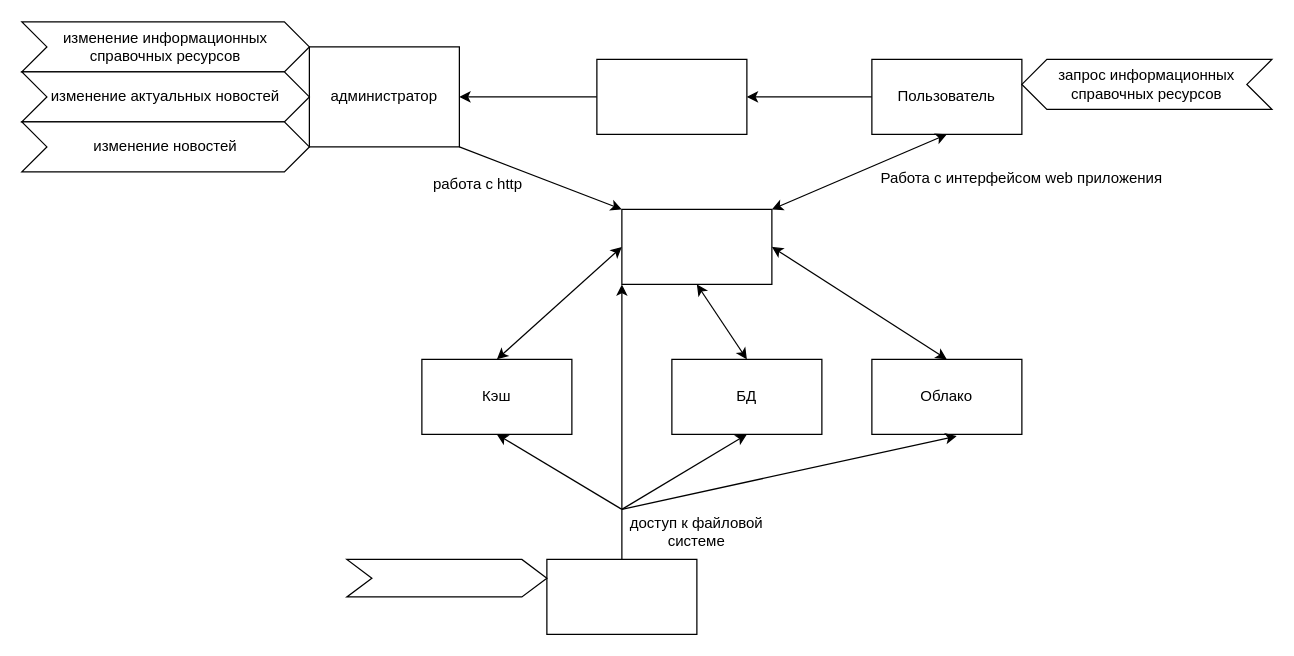
Some shapes in this 1294 by 656 pixel diagram are drawn without their labels. Each missing label, with the box of its shape:
Web приложение сайта школы: (621, 208, 772, 284)
гостевая книга: (596, 58, 747, 134)
изменение кода: (346, 558, 547, 597)
разработчик: (546, 558, 697, 634)
